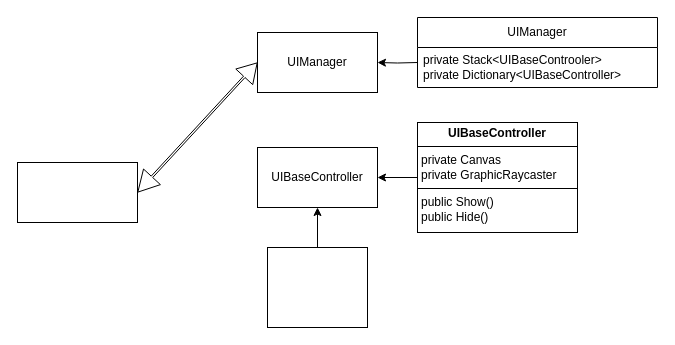
Some shapes in this 675 by 345 pixel diagram are drawn without their labels. Each missing label, with the box of its shape:
IPanel void Show() void Hide() void IsShow(): (266, 246, 368, 328)
특정 Controller: (16, 162, 138, 222)
